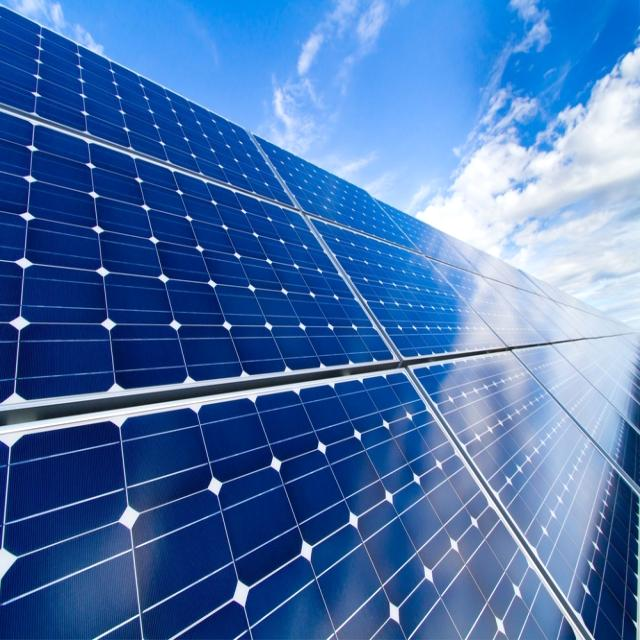crack: (2, 368, 612, 640), (0, 94, 386, 414), (296, 205, 521, 386)
